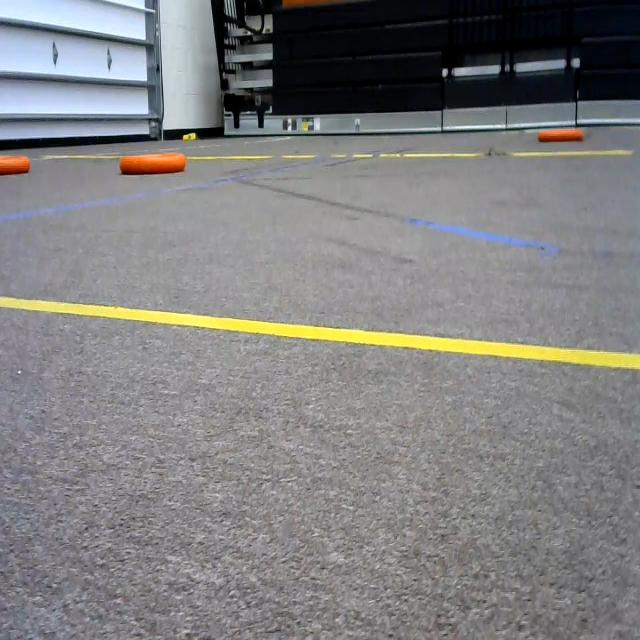note: (120, 147, 187, 182), (0, 145, 40, 189), (536, 123, 587, 145)
